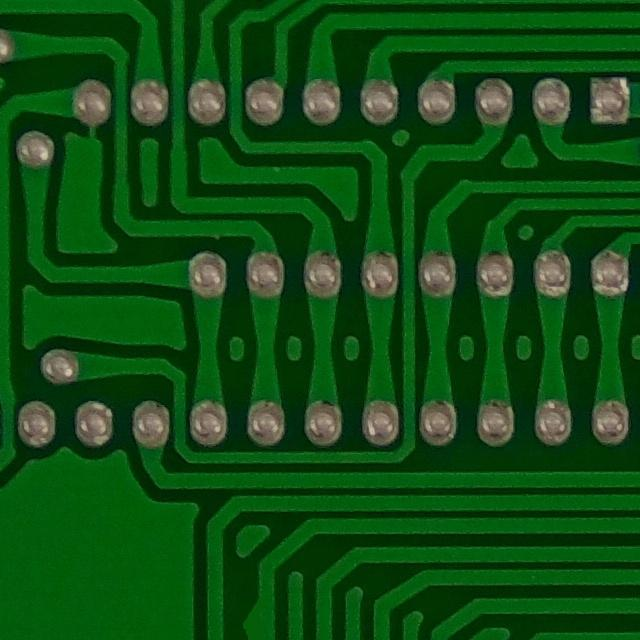spur: (224, 593, 275, 640)
